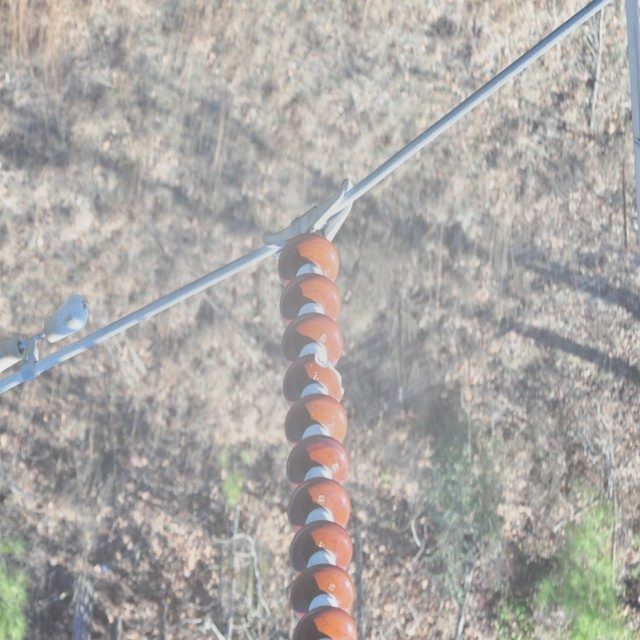broken: (313, 352, 346, 396)
insulator: (279, 235, 358, 640)
